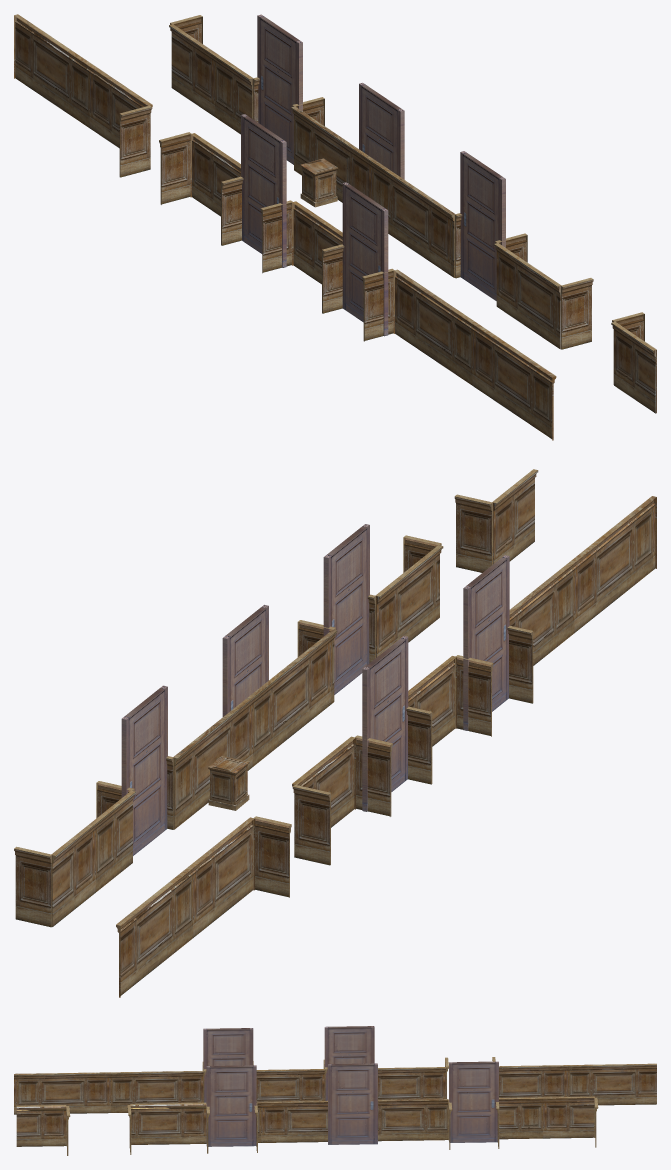
File: SM_Scene_A_Woodwork00.fbx
3 renders of one model, top to bottom at view 1: azimuth 30°, elevation 25°; view 2: azimuth 150°, elevation 25°; view 3: azimuth 270°, elevation 25°, orthographic. The views are drawn at different scales.
Visible parts, largest first — view 1: SM_Scene_A_Woodwork00; view 2: SM_Scene_A_Woodwork00; view 3: SM_Scene_A_Woodwork00.
Part boxes in pixels (box(x1,y1,x2,y2)): SM_Scene_A_Woodwork00: box(14, 14, 656, 440); SM_Scene_A_Woodwork00: box(14, 469, 656, 997); SM_Scene_A_Woodwork00: box(14, 1026, 656, 1155).
Bounding box in the file's own units: 497 × 315 × 2308.
